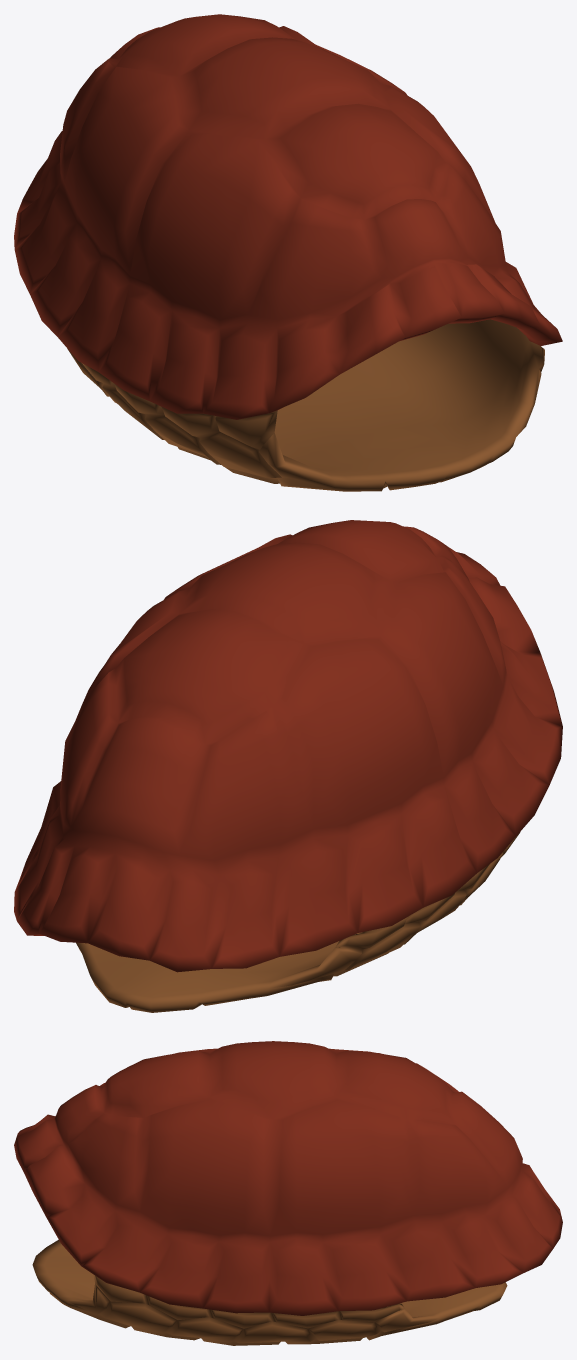
File: tortoise_tortoise_shell.obj
3 views of the same model, one above another, from view 1: azimuth 30°, elevation 25°; view 2: azimuth 150°, elevation 25°; view 3: azimuth 270°, elevation 25° (orthographic). The views are drawn at different scales.
Visible parts, largest first — view 1: tortoise_shell; view 2: tortoise_shell; view 3: tortoise_shell.
Boxes of the visible parts, bbox=[...] form: tortoise_shell: bbox=[14, 14, 562, 491]; tortoise_shell: bbox=[14, 520, 562, 1012]; tortoise_shell: bbox=[14, 1041, 562, 1345].
Size of the model in its own units: 0.1455 by 0.1337 by 0.2492.
